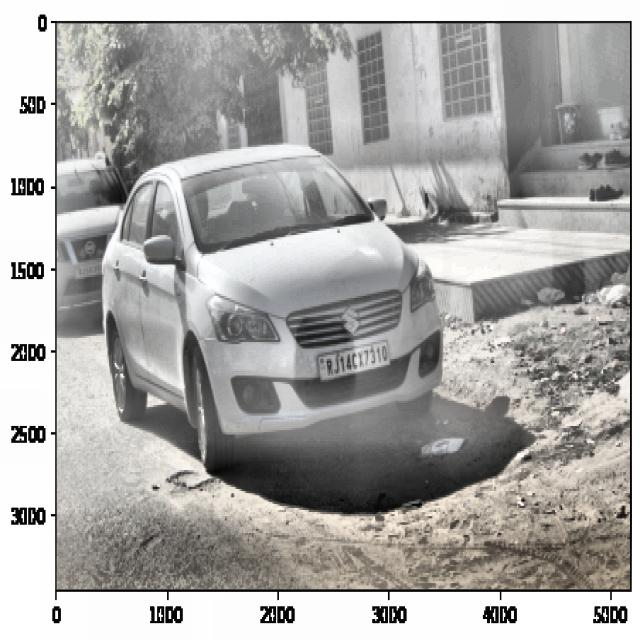license_plate: (320, 340, 394, 382)
